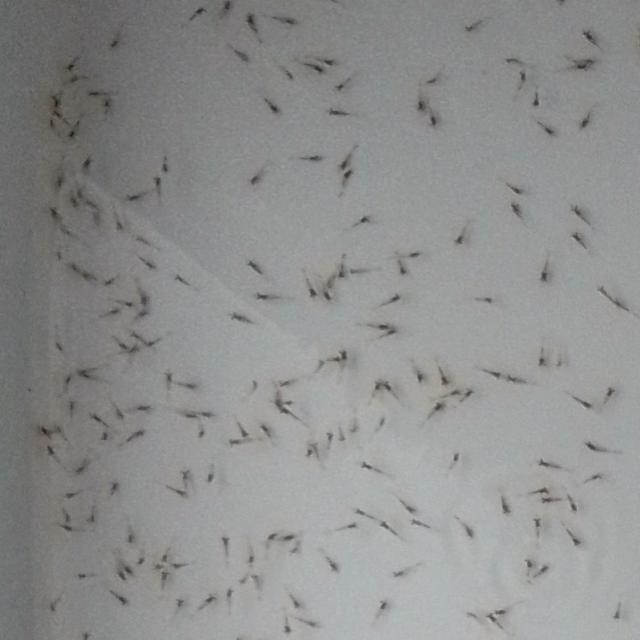shrimp-seed: (246, 260, 260, 274), (424, 74, 438, 88), (569, 204, 583, 217), (569, 536, 583, 548), (258, 424, 272, 436), (508, 185, 522, 197), (245, 15, 257, 29), (284, 69, 296, 83), (309, 64, 323, 76), (414, 100, 426, 114), (198, 410, 214, 420), (233, 52, 249, 62), (180, 469, 192, 482), (389, 293, 402, 305), (543, 126, 556, 138), (238, 428, 252, 439), (407, 250, 421, 261), (265, 104, 279, 115), (58, 227, 72, 238), (402, 506, 417, 516), (137, 404, 152, 414), (67, 263, 82, 273), (612, 610, 624, 622), (290, 600, 302, 612), (116, 594, 128, 606), (348, 422, 360, 434), (255, 290, 267, 302), (306, 287, 318, 299), (538, 272, 550, 284), (150, 176, 162, 188), (80, 157, 92, 169), (494, 608, 508, 618), (280, 534, 294, 544), (536, 486, 550, 496), (324, 280, 338, 290), (596, 285, 610, 295), (453, 235, 467, 245), (112, 223, 126, 233), (308, 154, 322, 164), (326, 108, 340, 118), (282, 16, 296, 26), (320, 58, 334, 68), (428, 115, 438, 129), (580, 30, 594, 40), (530, 517, 542, 528), (60, 523, 72, 534), (44, 446, 56, 457), (484, 295, 496, 306), (48, 208, 59, 220), (344, 169, 356, 180), (51, 97, 63, 108), (578, 118, 589, 130), (46, 604, 59, 614), (135, 556, 148, 566), (361, 461, 374, 471), (538, 458, 551, 468), (583, 441, 596, 451), (80, 270, 93, 280), (134, 235, 147, 245), (54, 175, 64, 188), (306, 620, 318, 630), (484, 613, 496, 623), (224, 588, 234, 600), (160, 554, 172, 564), (154, 562, 166, 572), (346, 522, 358, 532), (463, 528, 475, 538), (540, 496, 552, 506), (88, 514, 98, 526), (136, 428, 148, 438), (89, 414, 101, 424), (228, 438, 240, 448), (308, 442, 320, 452), (434, 402, 446, 412), (580, 401, 592, 411), (440, 376, 450, 388), (414, 374, 426, 384), (380, 382, 392, 392), (185, 382, 197, 392), (377, 322, 389, 332), (129, 329, 141, 339), (230, 312, 242, 322), (140, 296, 150, 308), (321, 292, 333, 302), (358, 214, 370, 224), (510, 206, 522, 216), (144, 262, 156, 272), (126, 194, 138, 204), (338, 161, 348, 173), (68, 197, 78, 209), (195, 6, 207, 16), (278, 380, 292, 388), (143, 339, 157, 347), (116, 573, 126, 584), (171, 562, 182, 572), (328, 563, 339, 573), (523, 558, 534, 568), (125, 534, 136, 544), (379, 520, 390, 530), (74, 467, 85, 477), (324, 432, 334, 443), (374, 381, 384, 392), (115, 412, 126, 422), (183, 412, 194, 422), (339, 349, 350, 359), (128, 345, 139, 355), (337, 268, 348, 278), (570, 234, 581, 244), (159, 164, 170, 174), (101, 99, 112, 109), (67, 74, 78, 84), (90, 212, 100, 223), (464, 24, 475, 34), (80, 631, 92, 640), (353, 508, 365, 517), (123, 299, 135, 308), (220, 1, 232, 10), (464, 612, 477, 620), (378, 602, 388, 612), (124, 567, 134, 577), (220, 538, 230, 548), (246, 556, 256, 566), (250, 574, 260, 584), (500, 504, 510, 514), (569, 504, 579, 514), (592, 472, 602, 482), (63, 490, 73, 500), (110, 482, 120, 492), (450, 452, 460, 462), (536, 358, 546, 368), (164, 372, 174, 382), (614, 299, 624, 309), (397, 267, 407, 277), (174, 274, 184, 284), (66, 130, 76, 140), (88, 90, 98, 100), (64, 64, 74, 74), (110, 39, 120, 49), (334, 83, 344, 93), (518, 72, 528, 82), (576, 63, 586, 73), (409, 519, 421, 527), (37, 426, 49, 434), (386, 328, 398, 336), (138, 310, 150, 318), (504, 56, 516, 64), (582, 58, 594, 66), (160, 572, 170, 581), (606, 388, 615, 398), (506, 375, 516, 384), (280, 407, 290, 416), (250, 381, 260, 390), (284, 398, 295, 406), (77, 368, 88, 376), (248, 178, 260, 185), (100, 433, 109, 442), (284, 626, 292, 636), (206, 596, 216, 604), (77, 574, 87, 582), (393, 570, 403, 578), (267, 532, 277, 540), (290, 548, 300, 556), (176, 490, 186, 498), (205, 475, 215, 483), (54, 425, 62, 435), (337, 435, 347, 443), (378, 418, 388, 426), (464, 389, 474, 397), (452, 389, 462, 397), (66, 403, 76, 411), (273, 400, 283, 408), (54, 344, 64, 352), (109, 308, 119, 316), (350, 267, 360, 275), (102, 279, 112, 287), (76, 189, 84, 199), (52, 111, 62, 119), (532, 100, 542, 108), (541, 565, 550, 573), (63, 378, 72, 386), (333, 356, 342, 364), (118, 342, 128, 349), (238, 578, 246, 586), (48, 118, 56, 126), (304, 451, 313, 458), (62, 516, 72, 522), (80, 374, 90, 380), (198, 431, 206, 438), (492, 372, 499, 380), (555, 361, 563, 368), (318, 361, 326, 368), (174, 602, 183, 608)
